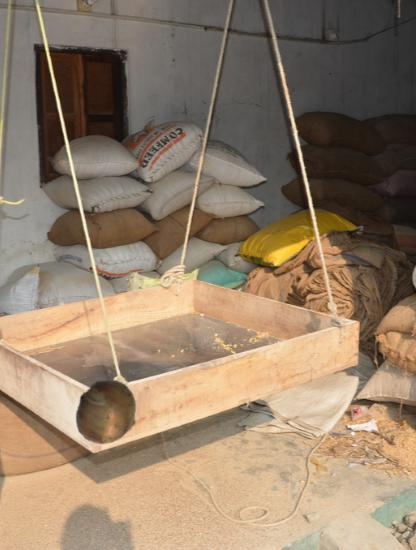Onion: (73, 378, 142, 447)
